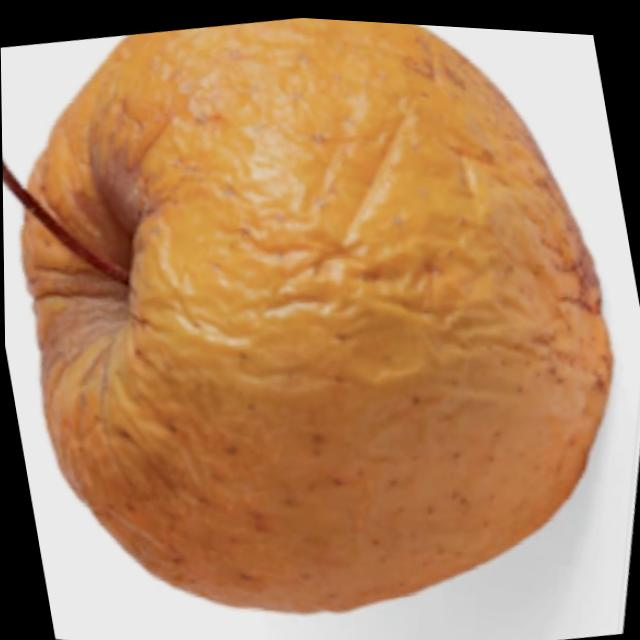organik: (21, 1, 632, 640)
